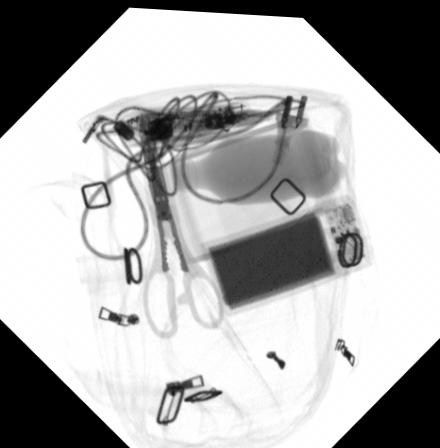Powerbank: (200, 186, 378, 309)
Scissors: (134, 113, 225, 337)
